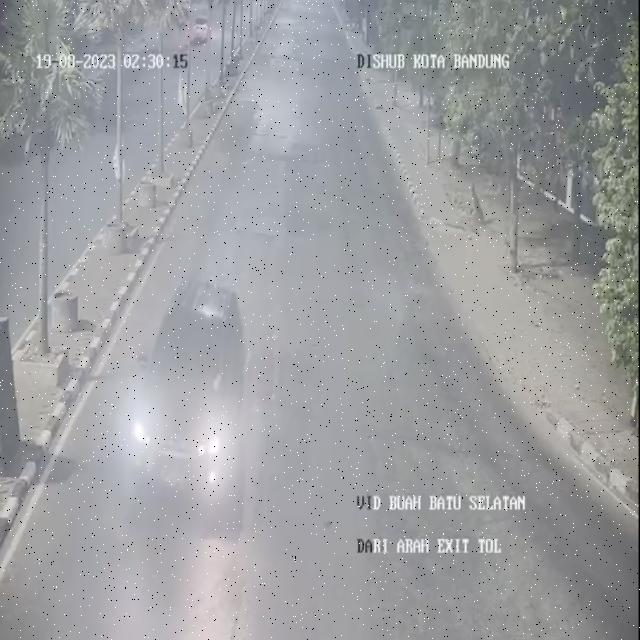cars: (132, 287, 256, 531)
